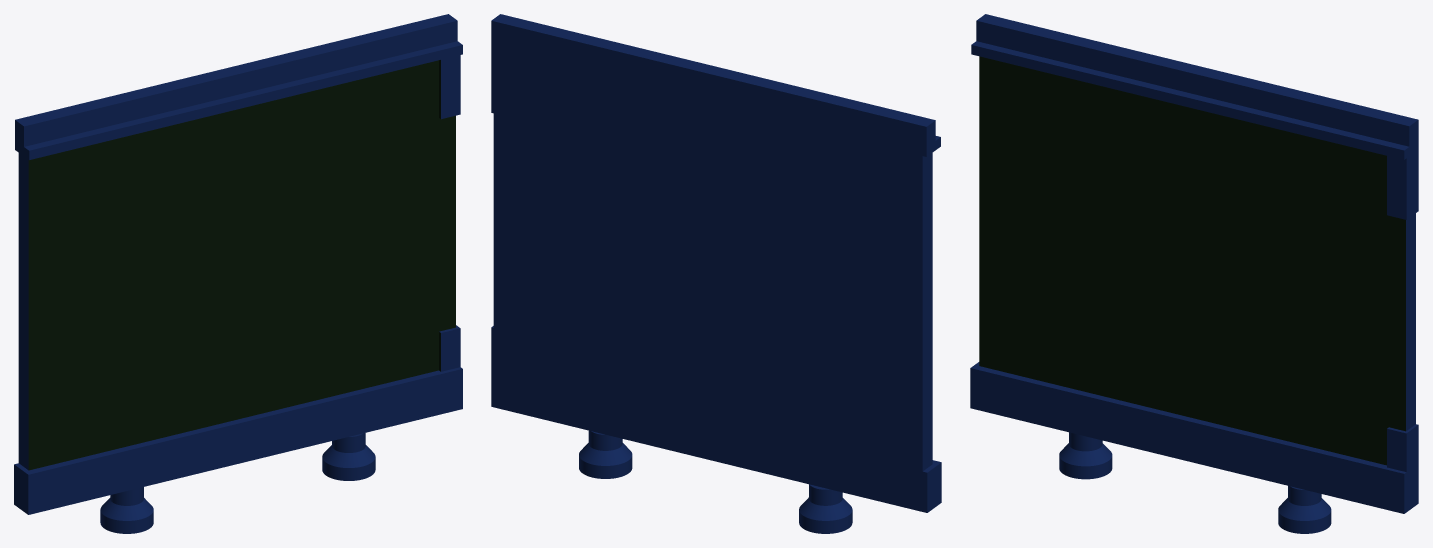
The model's file is Mesh_GreenGym_Base_Offense.FBX.
3 renders of one model, left to right at view 1: azimuth 30°, elevation 25°; view 2: azimuth 150°, elevation 25°; view 3: azimuth 330°, elevation 25°, orthographic.
Parts seen in each view (by area): view 1: Mesh_GreenGym_Base_Offense; view 2: Mesh_GreenGym_Base_Offense; view 3: Mesh_GreenGym_Base_Offense.
Boxes of the visible parts, x1,y1,x2,y2 form: Mesh_GreenGym_Base_Offense: (14, 14, 462, 533); Mesh_GreenGym_Base_Offense: (491, 14, 941, 533); Mesh_GreenGym_Base_Offense: (970, 14, 1418, 533).
Size of what is drawn, in the model's own units: 179 by 19.87 by 167.
